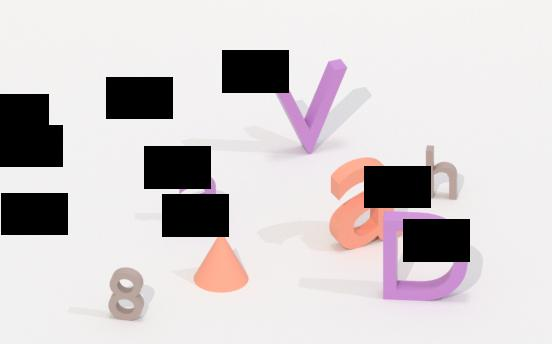8: (108, 263, 148, 323)
a: (329, 154, 405, 249), (176, 171, 227, 230)
d: (379, 206, 472, 311)
h: (422, 142, 462, 202)
non: (191, 229, 251, 296)
v: (262, 56, 350, 158)
